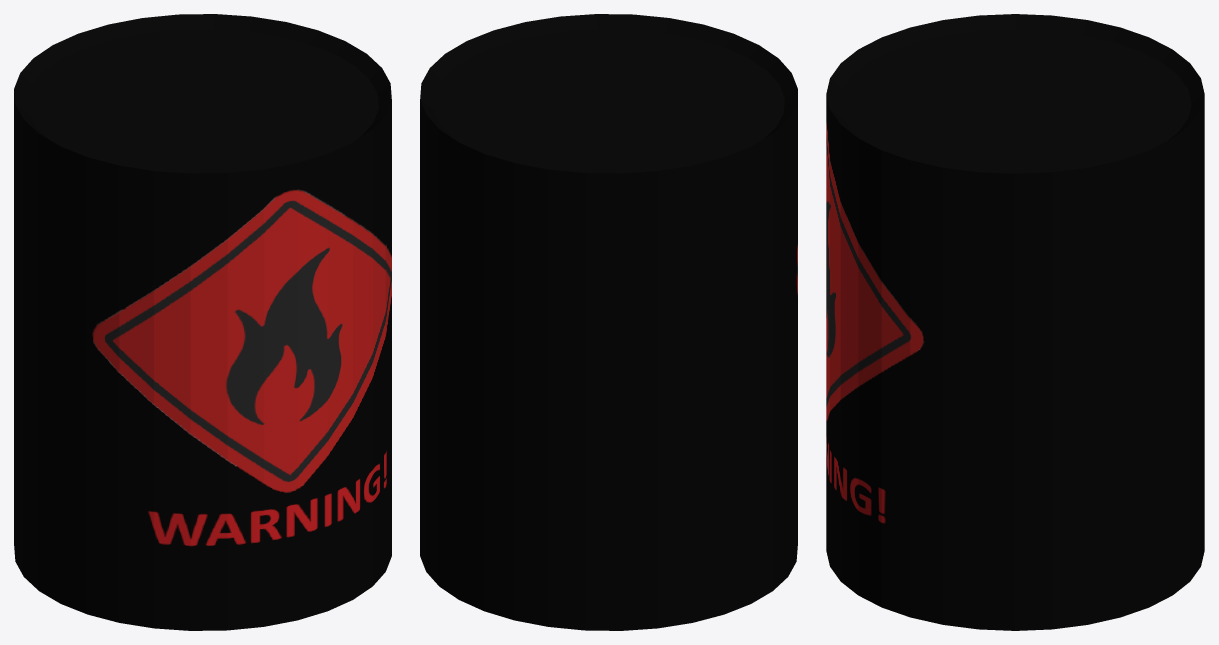
The model's file is Warning.fbx.
3 renders of one model, left to right at view 1: azimuth 30°, elevation 25°; view 2: azimuth 150°, elevation 25°; view 3: azimuth 270°, elevation 25°, orthographic.
Parts seen in each view (by area): view 1: Cylinder; view 2: Cylinder; view 3: Cylinder.
Boxes of the visible parts, x1,y1,x2,y2 form: Cylinder: [14, 14, 391, 630]; Cylinder: [420, 14, 797, 630]; Cylinder: [826, 14, 1204, 630].
Bounding box in the file's own units: 150 × 200 × 150.
Materials: 1 (1 with a texture image).
